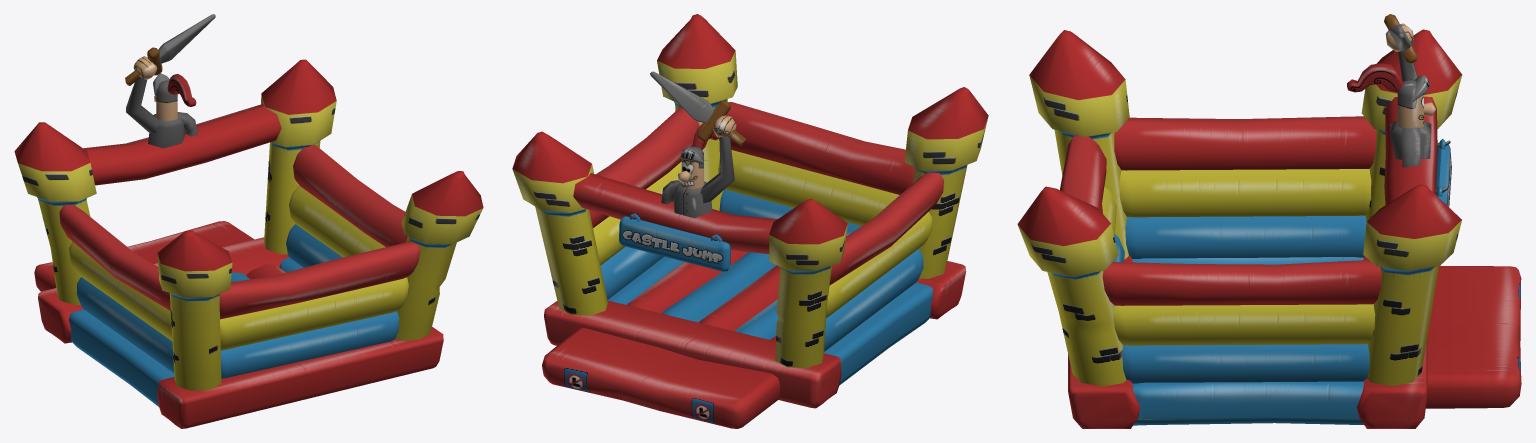
The model's file is ETC0210024.fbx.
3 renders of one model, left to right at view 1: azimuth 30°, elevation 25°; view 2: azimuth 150°, elevation 25°; view 3: azimuth 270°, elevation 25°, orthographic. The views are drawn at different scales.
Parts seen in each view (by area): view 1: smETC0210024; view 2: smETC0210024; view 3: smETC0210024.
Part boxes in pixels (<box>): smETC0210024: <box>14,14,483,428</box>; smETC0210024: <box>512,14,988,428</box>; smETC0210024: <box>1017,14,1521,428</box>.
Bounding box in the file's own units: 1195 × 1001 × 1342.
1 material, 1 textured.
